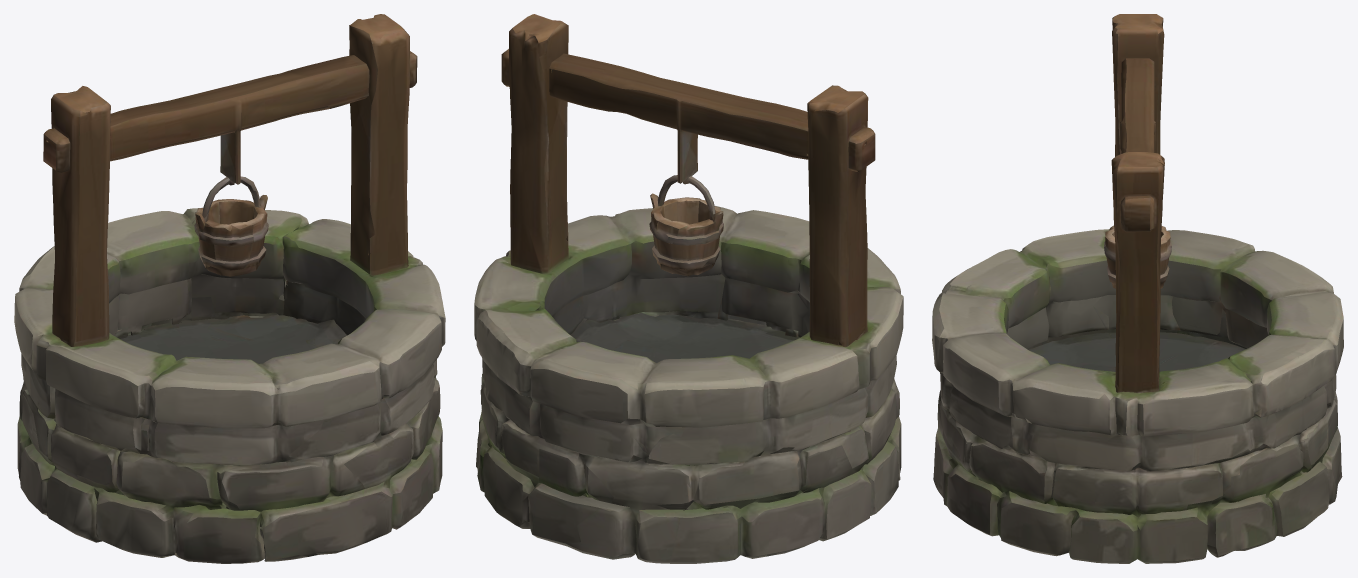
The model's file is stone_well.glb.
3 renders of one model, left to right at view 1: azimuth 30°, elevation 25°; view 2: azimuth 150°, elevation 25°; view 3: azimuth 270°, elevation 25°, orthographic. The views are drawn at different scales.
Visible parts, largest first — view 1: geometry_0; view 2: geometry_0; view 3: geometry_0.
Part boxes in pixels (x1,y1,x2,y2): geometry_0: [14, 14, 445, 563]; geometry_0: [474, 14, 903, 563]; geometry_0: [932, 14, 1343, 563].
Bounding box in the file's own units: 1.6 × 1.69 × 1.61.
Materials: 1 (1 with a texture image).
